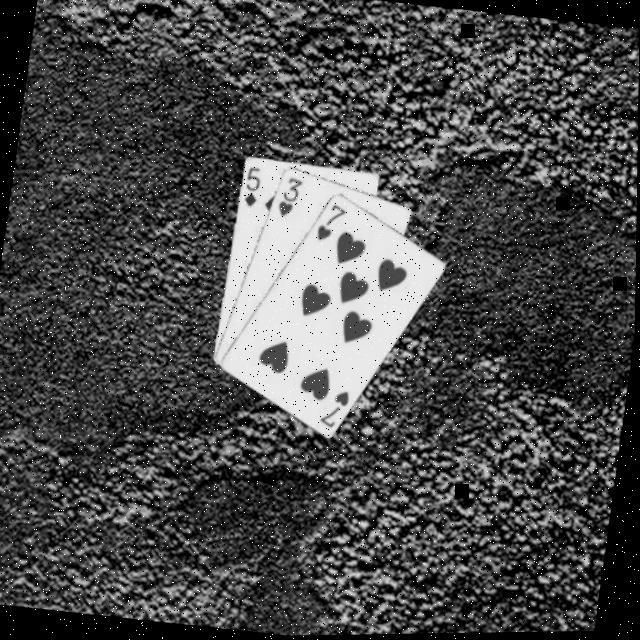3H: (273, 174, 305, 221)
5D: (238, 165, 264, 211)
7H: (314, 386, 352, 434), (312, 200, 349, 248)
